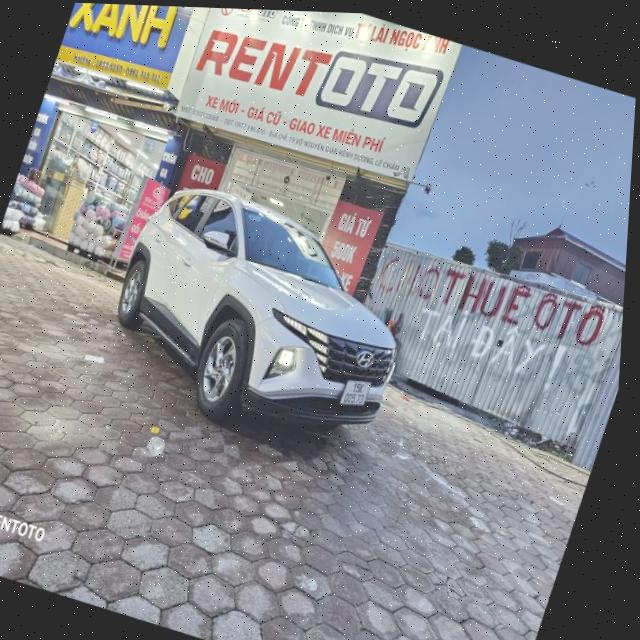car: (73, 166, 447, 477)
plate: (332, 368, 380, 415)
